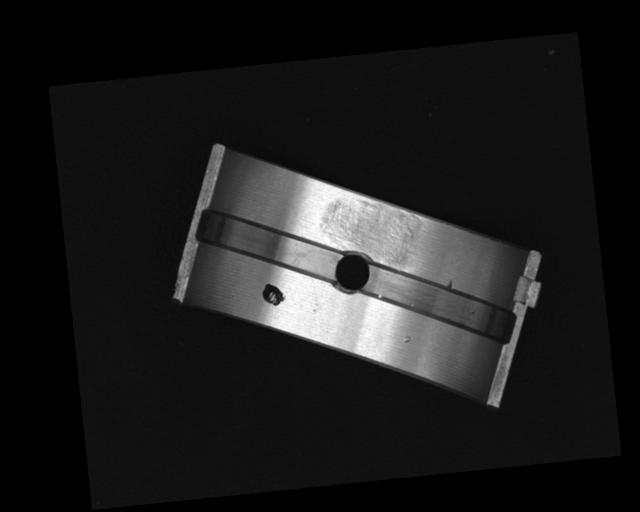blot: (260, 280, 286, 307)
bruise: (444, 278, 455, 292), (402, 334, 411, 345)
gap: (354, 246, 513, 359), (193, 186, 348, 299)
hole: (328, 247, 378, 298)
scratch: (314, 188, 426, 278)
